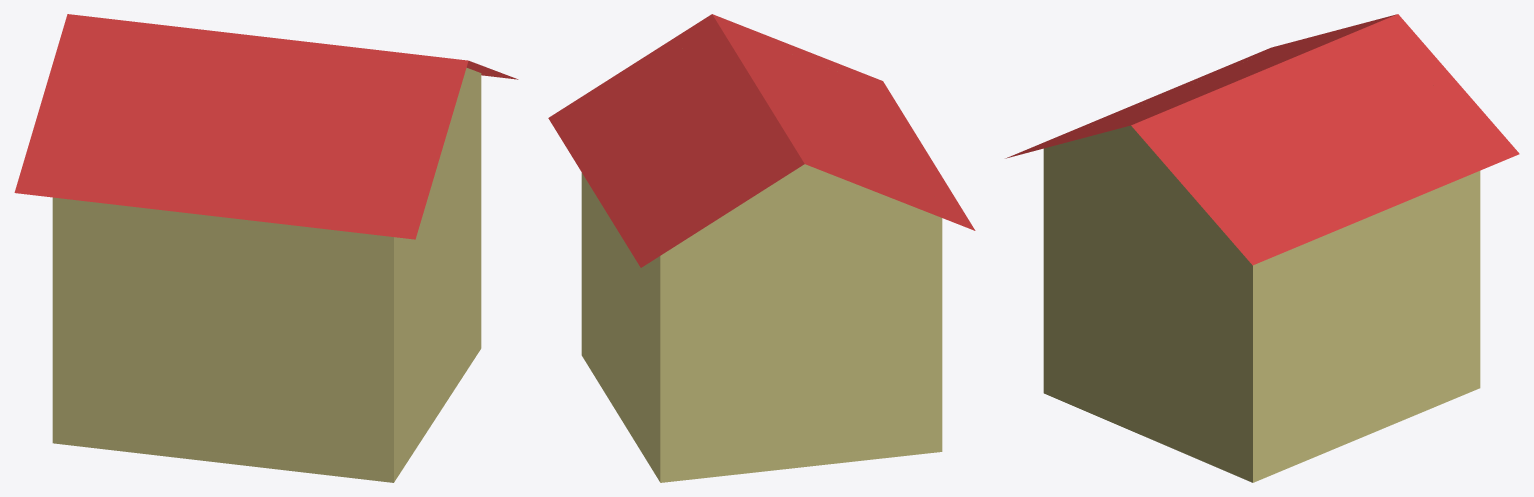
3 views of the same model, side by side, from view 1: azimuth 30°, elevation 25°; view 2: azimuth 150°, elevation 25°; view 3: azimuth 270°, elevation 25° (orthographic). The views are drawn at different scales.
Bounding box in the file's own units: 18.42 × 18.43 × 12.69.
